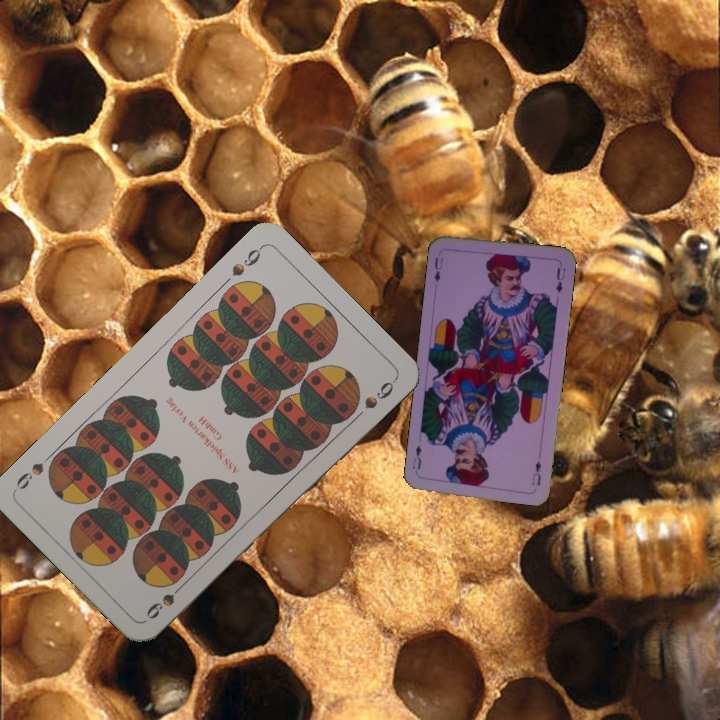EU: (430, 253, 446, 284), (528, 457, 544, 488)
S9: (141, 577, 189, 622), (227, 242, 266, 279)
